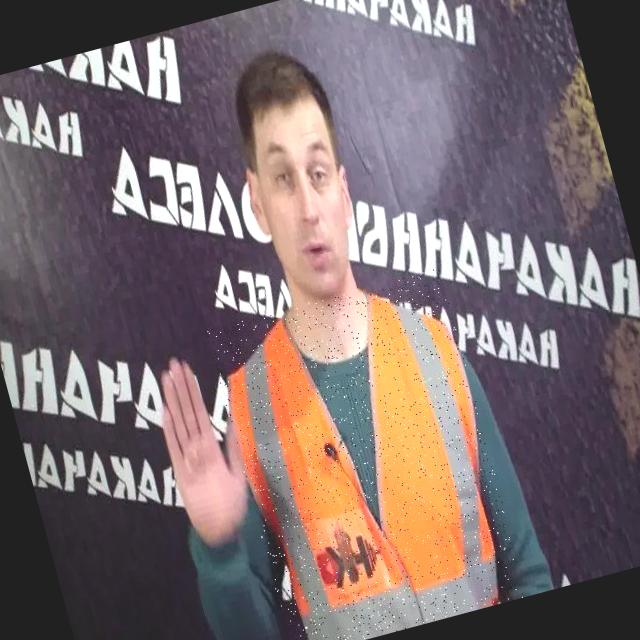vest: (205, 267, 527, 640)
